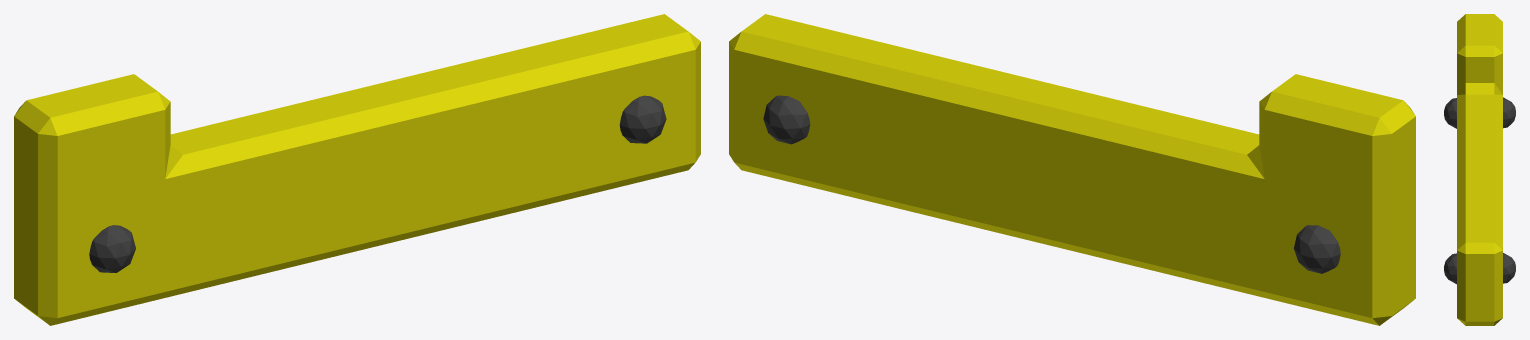
File: BarLE.fbx
3 renders of one model, left to right at view 1: azimuth 30°, elevation 25°; view 2: azimuth 150°, elevation 25°; view 3: azimuth 270°, elevation 25°, orthographic. The views are drawn at different scales.
Visible parts, largest first — view 1: BarE; view 2: BarE; view 3: BarE.
Boxes of the visible parts, x1,y1,x2,y2 form: BarE: (14,14,700,325); BarE: (729,14,1415,325); BarE: (1444,14,1515,325).
Size of the model in its own units: 1000 by 300 by 157.
